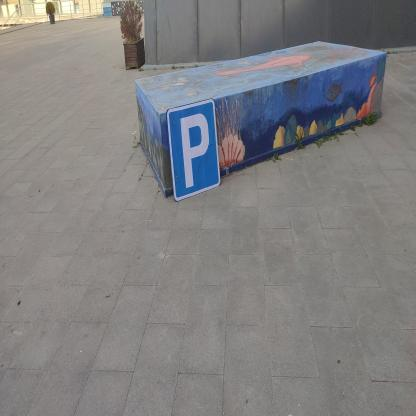Parking-Sign: (167, 97, 223, 203)
